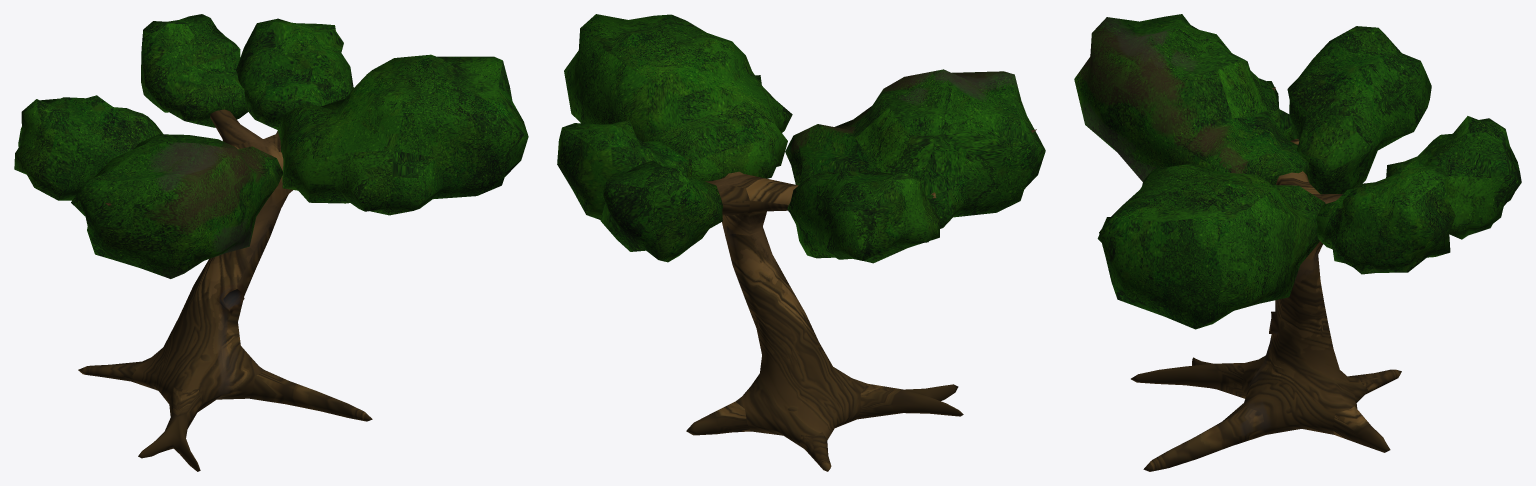
The model's file is Tree.fbx.
3 views of the same model, side by side, from view 1: azimuth 30°, elevation 25°; view 2: azimuth 150°, elevation 25°; view 3: azimuth 270°, elevation 25° (orthographic). The views are drawn at different scales.
Visible parts, largest first — view 1: Tree; view 2: Tree; view 3: Tree.
Boxes of the visible parts, left/top/right/bottom form: Tree: left=14, top=14, right=528, bottom=471; Tree: left=557, top=14, right=1045, bottom=471; Tree: left=1074, top=14, right=1521, bottom=471.
Size of the model in its own units: 1222 by 979 by 846.
Materials: 2 (2 with a texture image).
